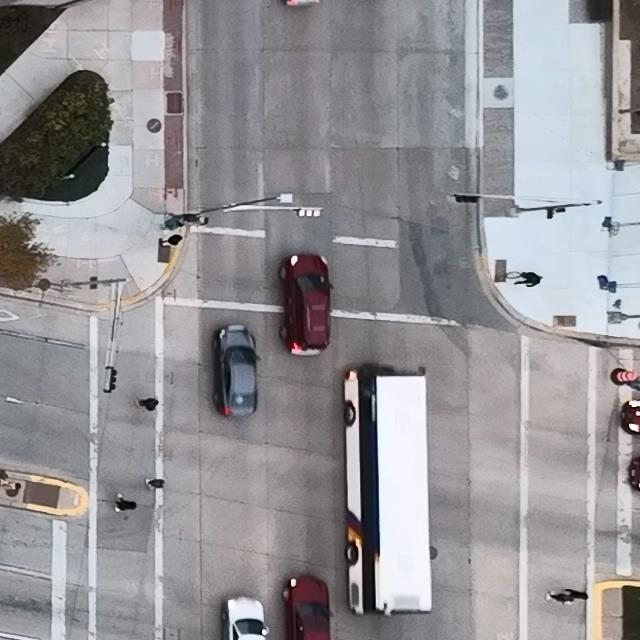car: (342, 367, 432, 616), (278, 253, 335, 357), (212, 324, 261, 418), (283, 576, 334, 640), (221, 597, 269, 640), (621, 399, 640, 436)
